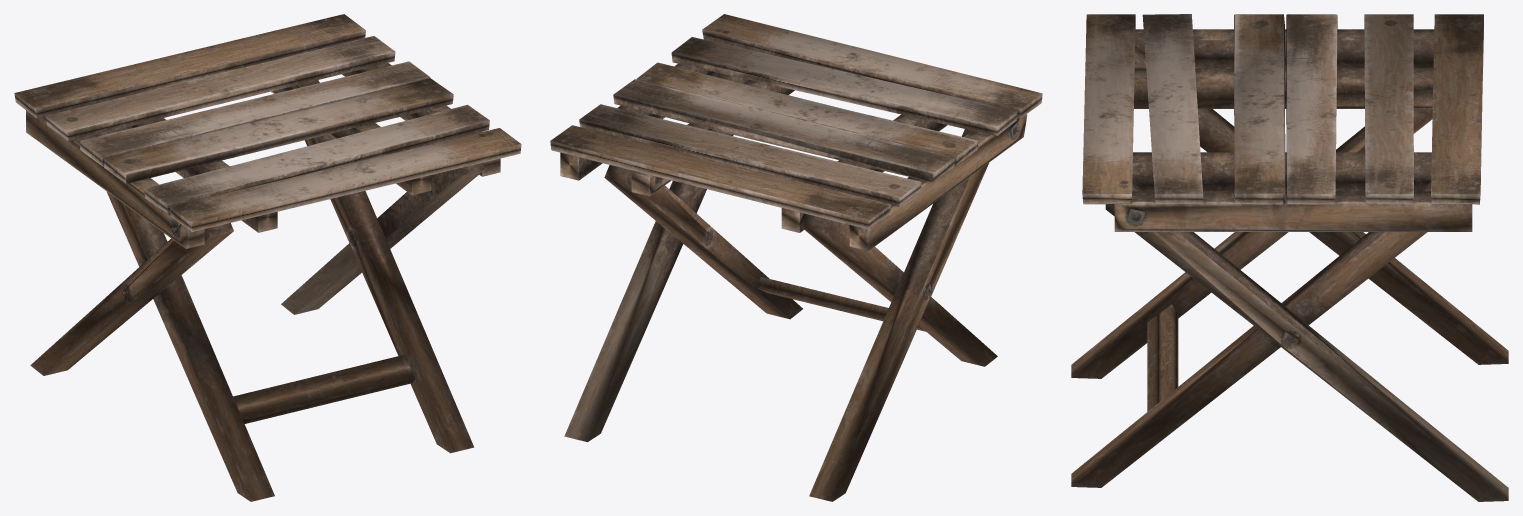
The model's file is plinth.glb.
3 renders of one model, left to right at view 1: azimuth 30°, elevation 25°; view 2: azimuth 150°, elevation 25°; view 3: azimuth 270°, elevation 25°, orthographic. The views are drawn at different scales.
Parts seen in each view (by area): view 1: folding_wooden_stool; view 2: folding_wooden_stool; view 3: folding_wooden_stool.
Boxes of the visible parts, left/top/right/bottom form: folding_wooden_stool: left=14, top=14, right=521, bottom=501; folding_wooden_stool: left=550, top=14, right=1042, bottom=501; folding_wooden_stool: left=1071, top=14, right=1508, bottom=501.
Bounding box in the file's own units: 0.5264 × 0.4402 × 0.5401.
1 material, 1 textured.
